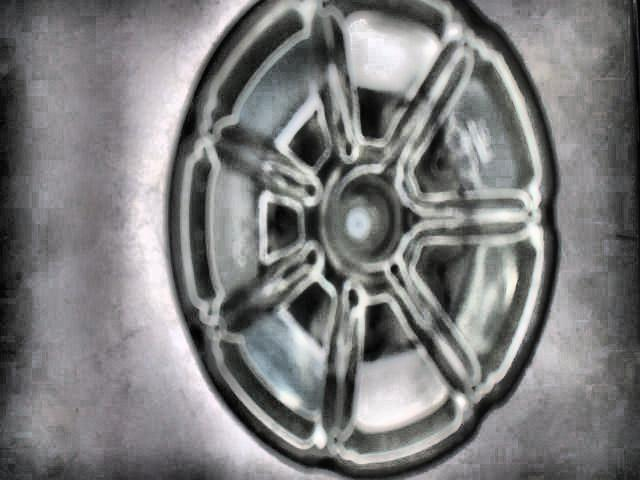Bottles: (165, 0, 558, 480)
